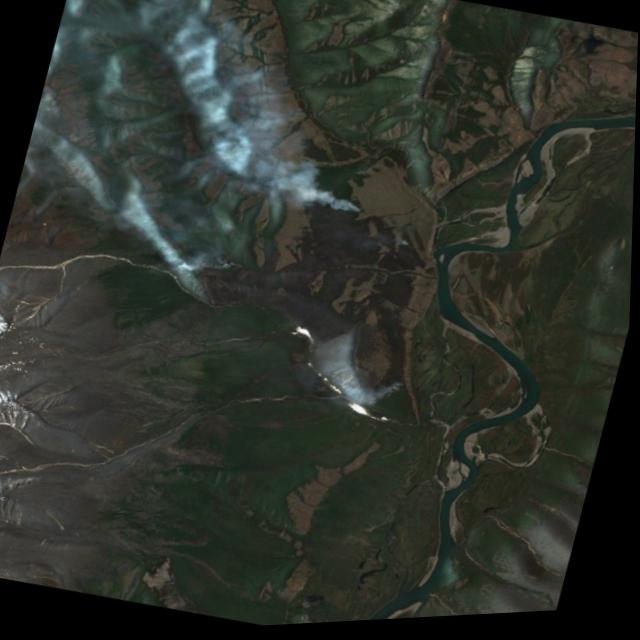fire: (168, 240, 253, 292), (292, 182, 376, 234), (382, 377, 415, 406)
